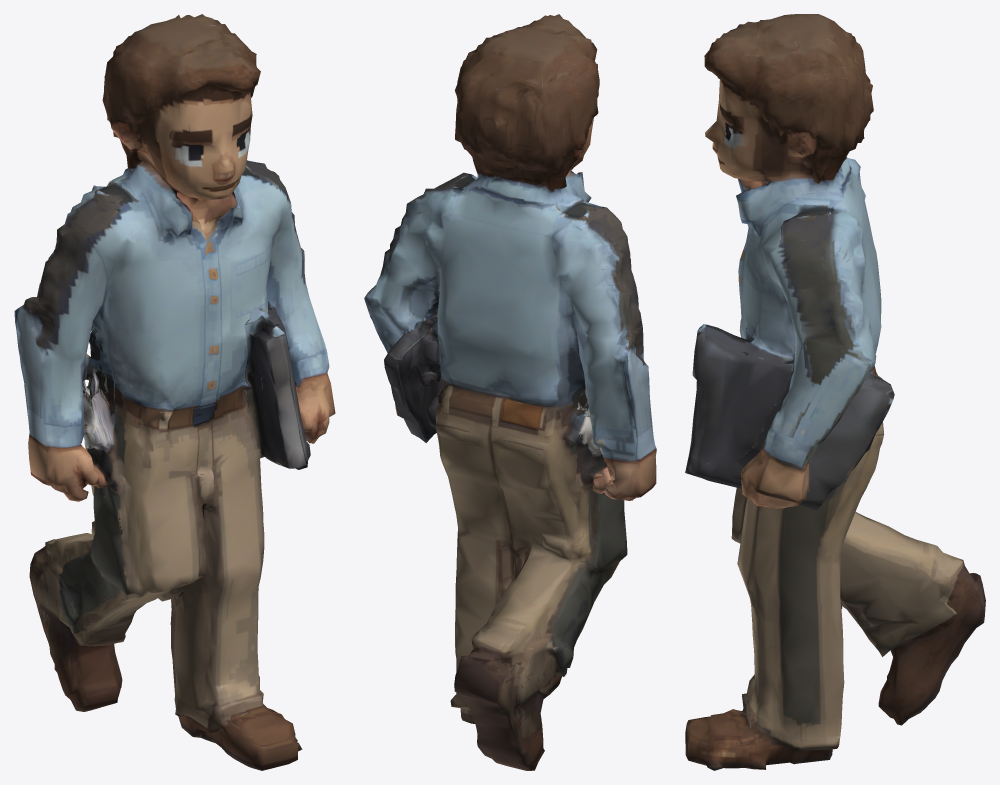
File: startup.glb
3 renders of one model, left to right at view 1: azimuth 30°, elevation 25°; view 2: azimuth 150°, elevation 25°; view 3: azimuth 270°, elevation 25°, orthographic. The views are drawn at different scales.
Size of the model in its own units: 0.8053 by 2.01 by 0.7731.
1 material, 1 textured.
